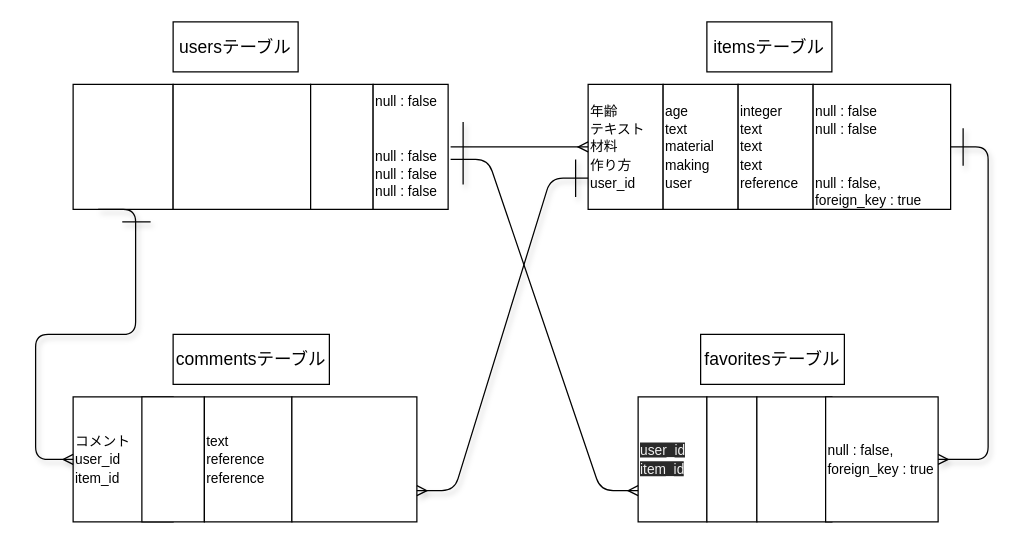
The diagram is 1028 pixels wide and 544 high, and some of its shapes have lost their labels. Here are the shapes that lost their labels. From the top down, the centre of each, then its label:
[122,146]: 名前 画像 プロフィール メール パスワード パス（確認用）
[241,146]: name image profile email password encrypted_password
[341,146]: string string string string string string
[172,459]: text user item
[354,459]: null : false null : false, foreign_key : true
[731,459]: user item
